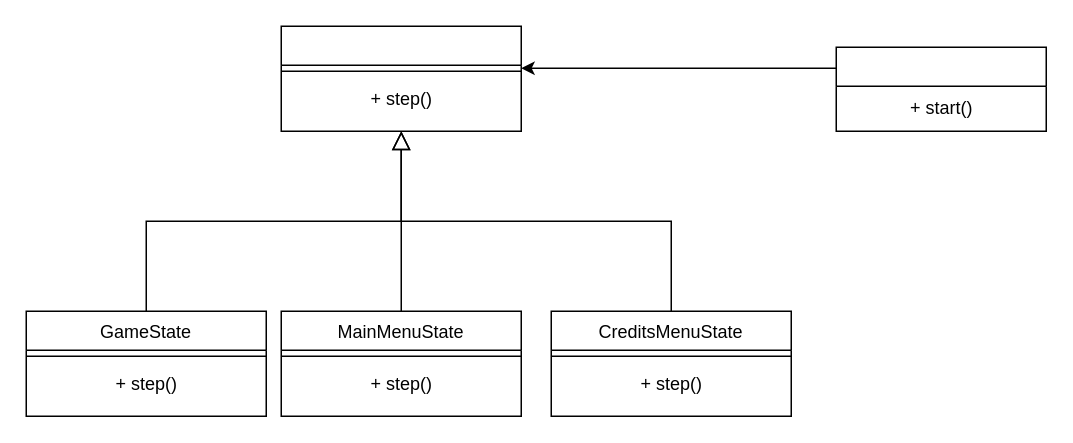
Some shapes in this 1073 by 443 pixel diagram are drawn without their labels. The box of each missing label's shape, as (x1, y1, x2, y2) in pixels:
Game: (835, 46, 1046, 131)
State: (280, 25, 521, 131)
